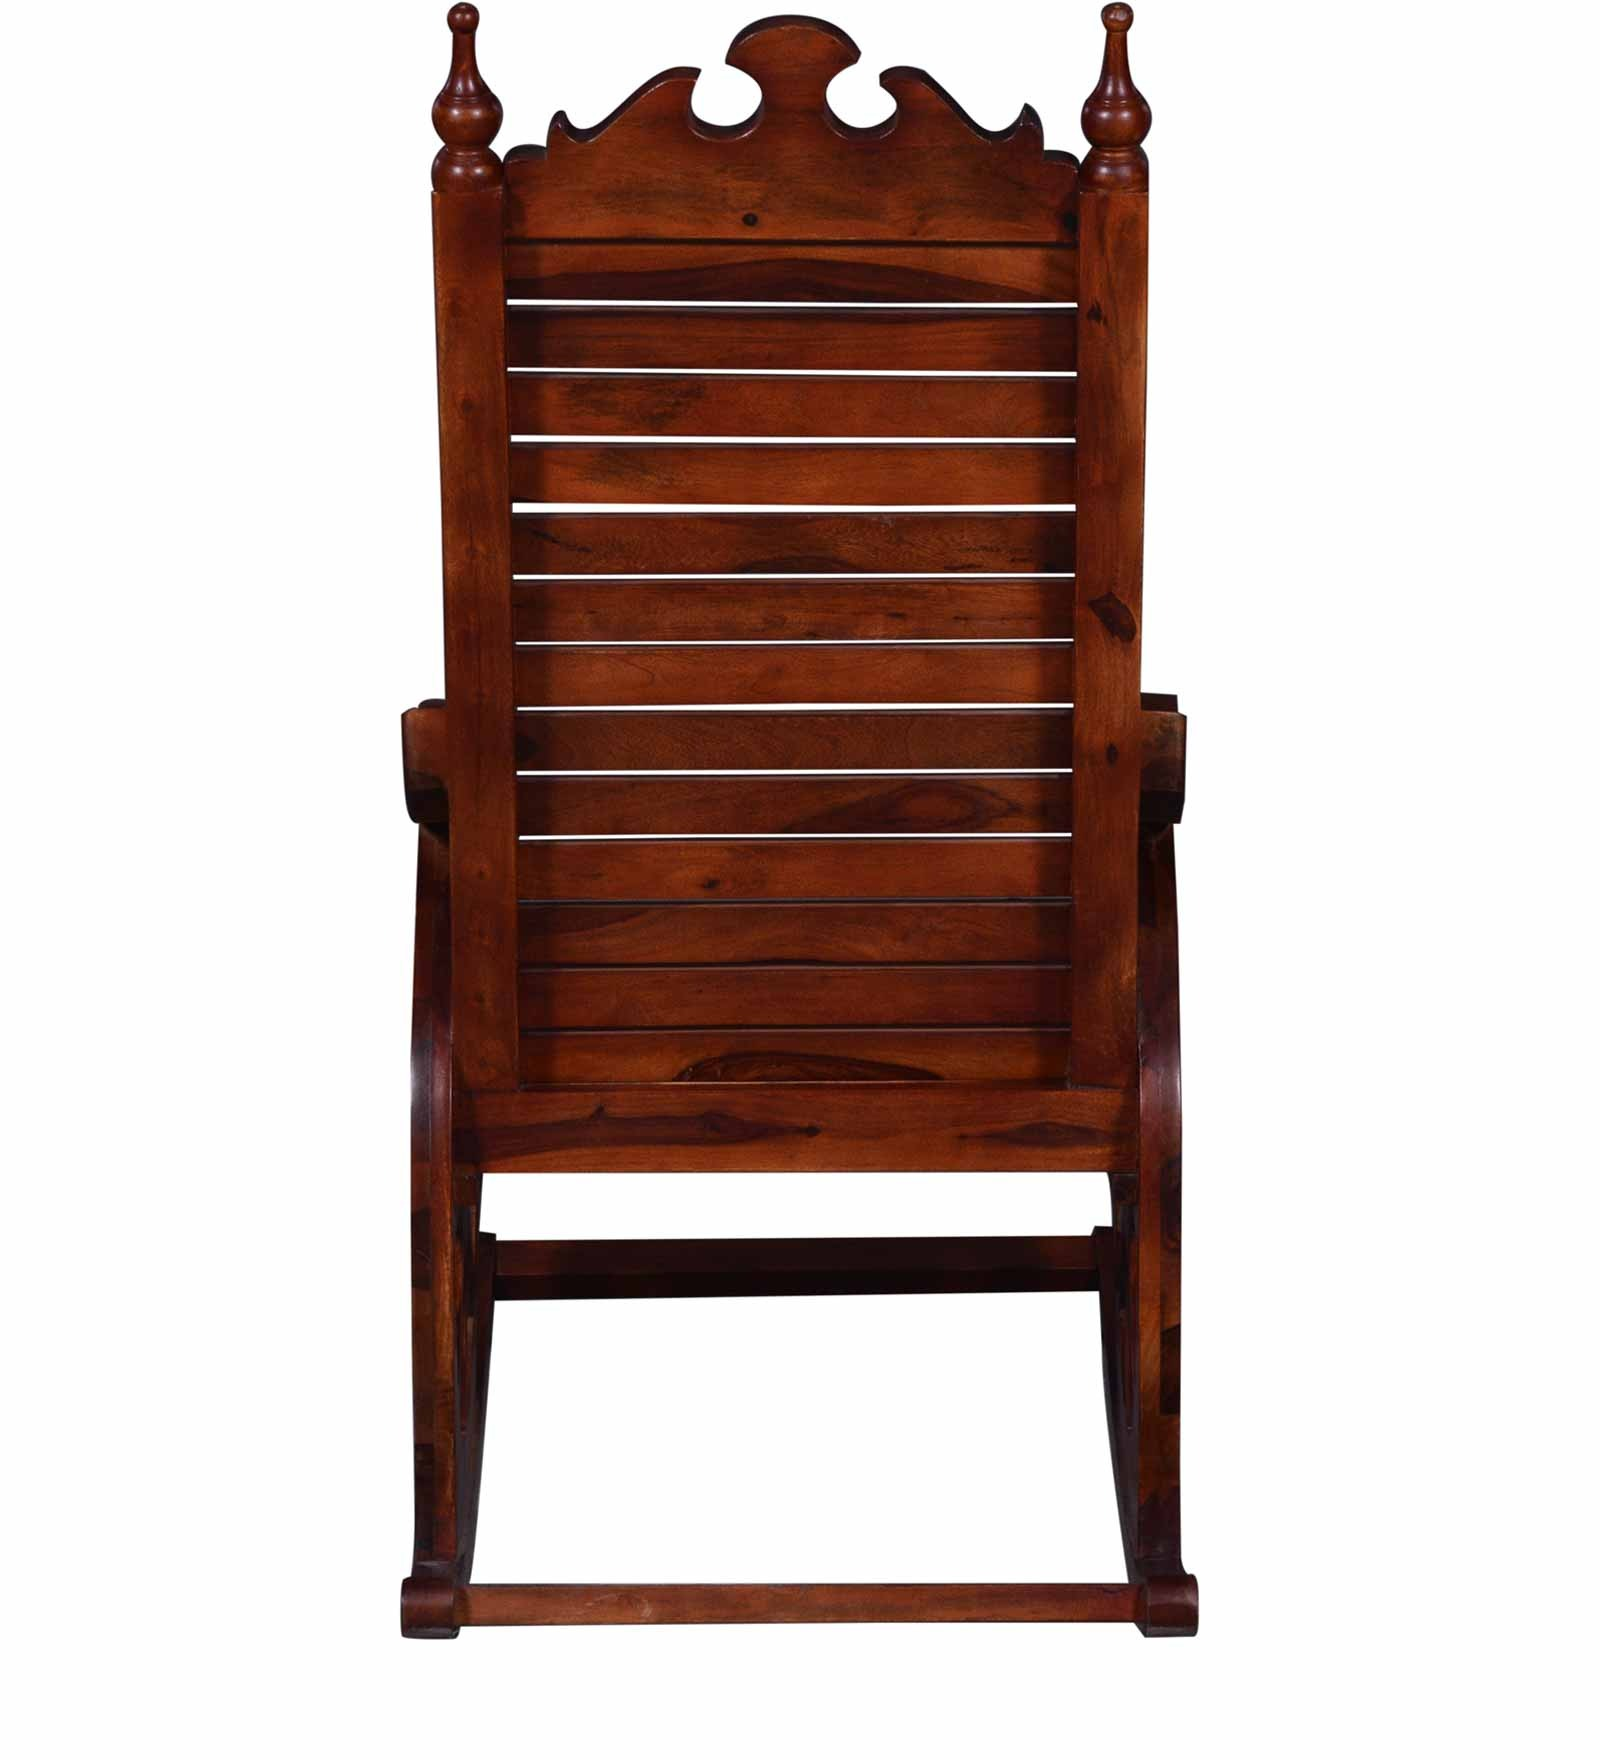Harold Rocking Chair in Honey Oak Finish by Amberville: (323, 5, 1277, 1712)
